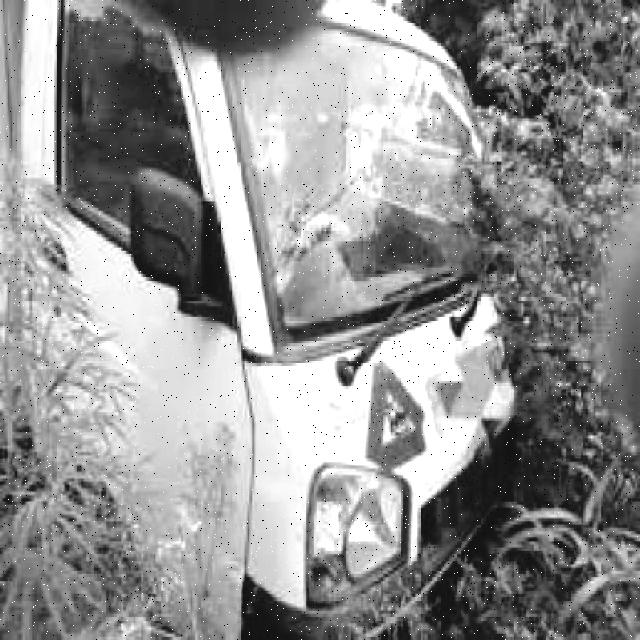LCV: (16, 0, 524, 637)
